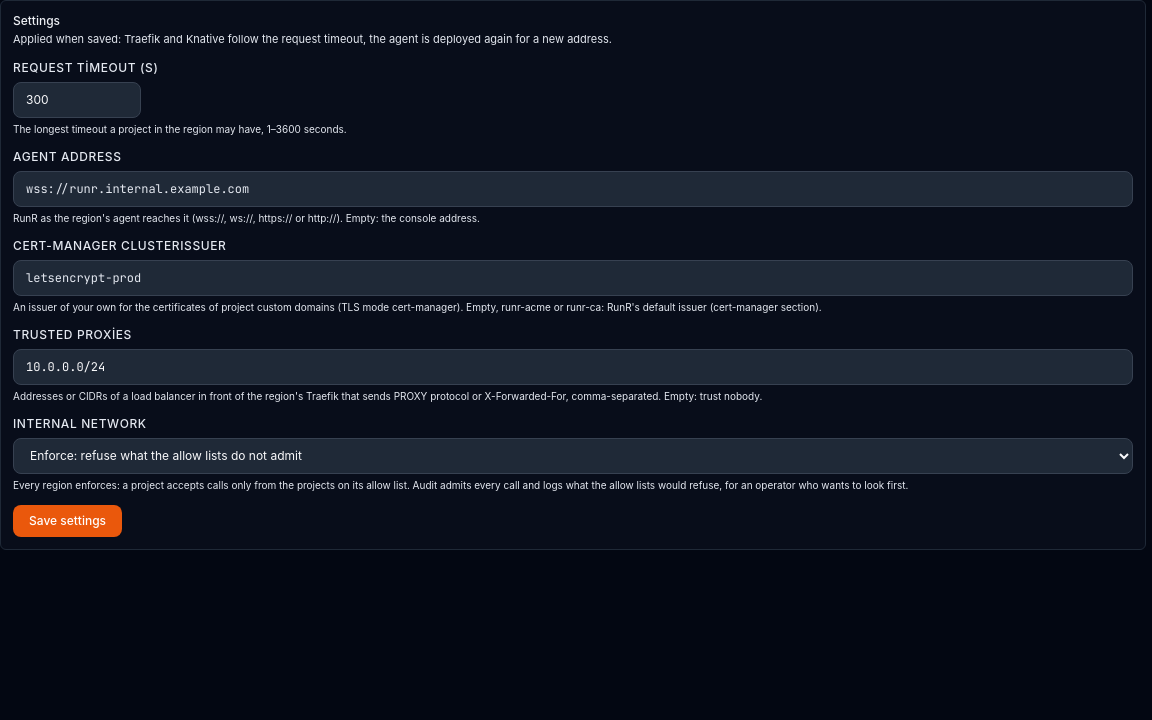
it: Region → General → Settings › saves request_timeout, agent_ws_url, cert_manager_cluster_issuer and ingress_trusted_ips
The width and height of the screenshot is (1152, 720).
expect the field with id "region-trusted-ips" holds "10.0.0.0/24": met, box [13,348,1133,384]
Replace the text in the number field with id "region-request-timeout" with "900" at x=77, y=100, box [13,82,141,118]
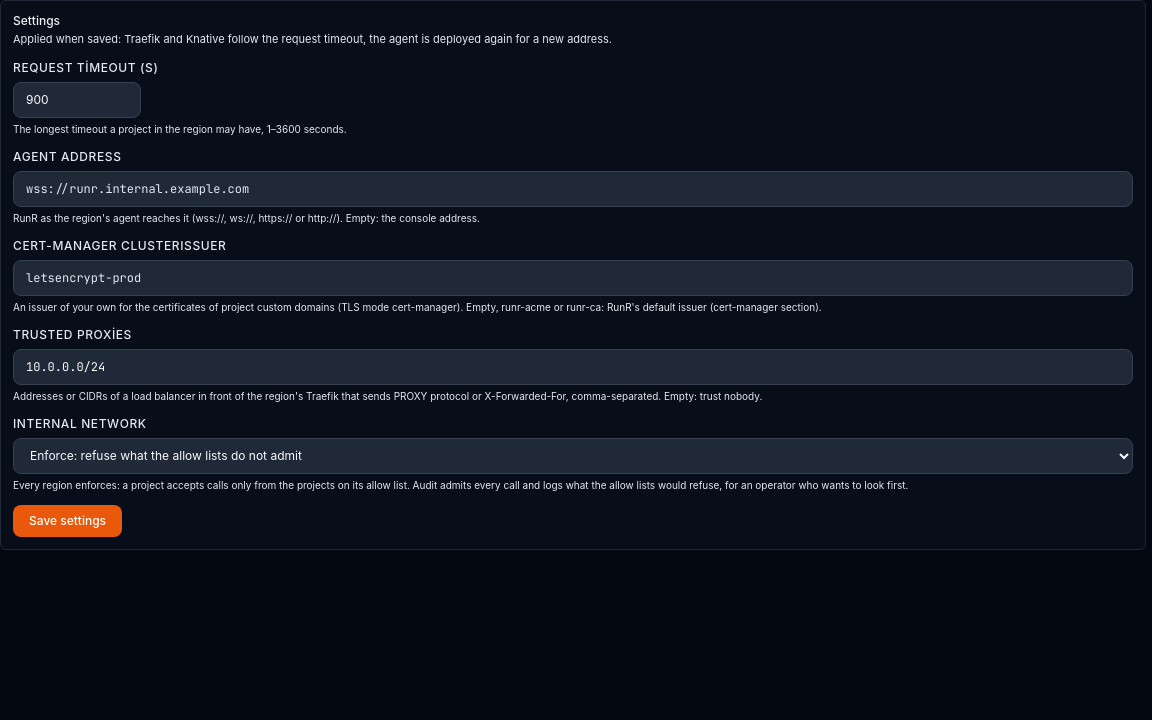
Type "wss://runr.internal.example.test" into the field with id "region-agent-url" at x=573, y=188, box [13,170,1133,206]
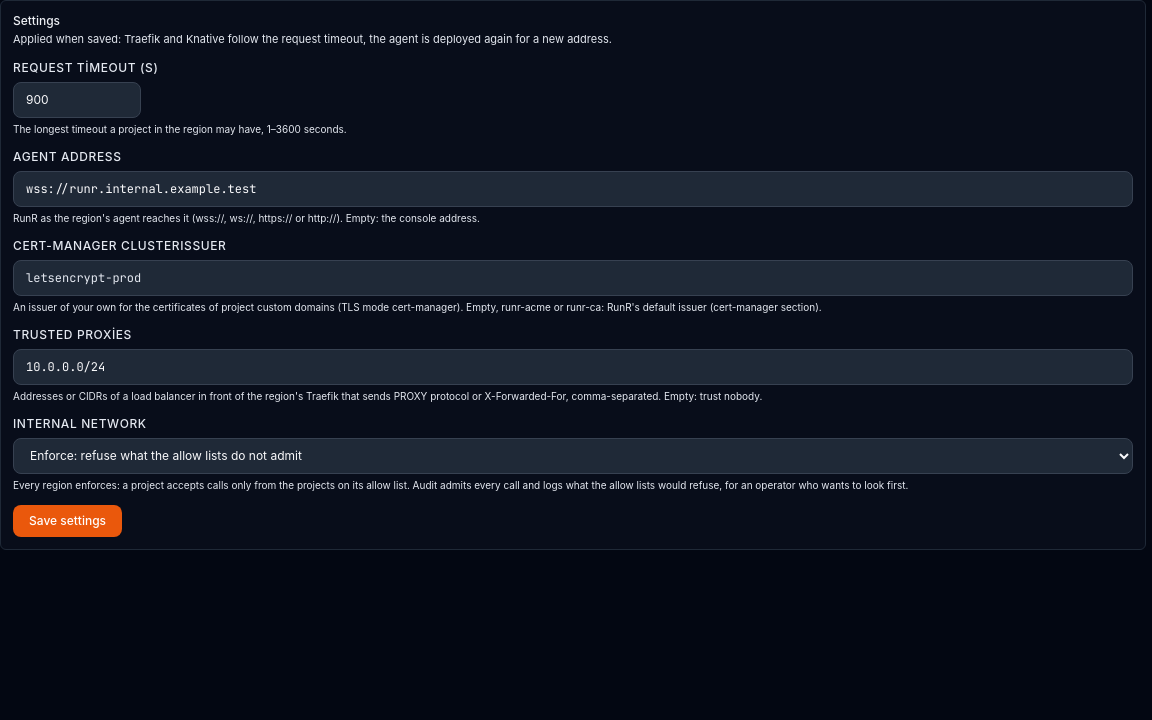
Replace the text in the field with id "region-trusted-ips" with "10.0.0.0/24, 192.0.2.10" at x=573, y=366, box [13,348,1133,384]
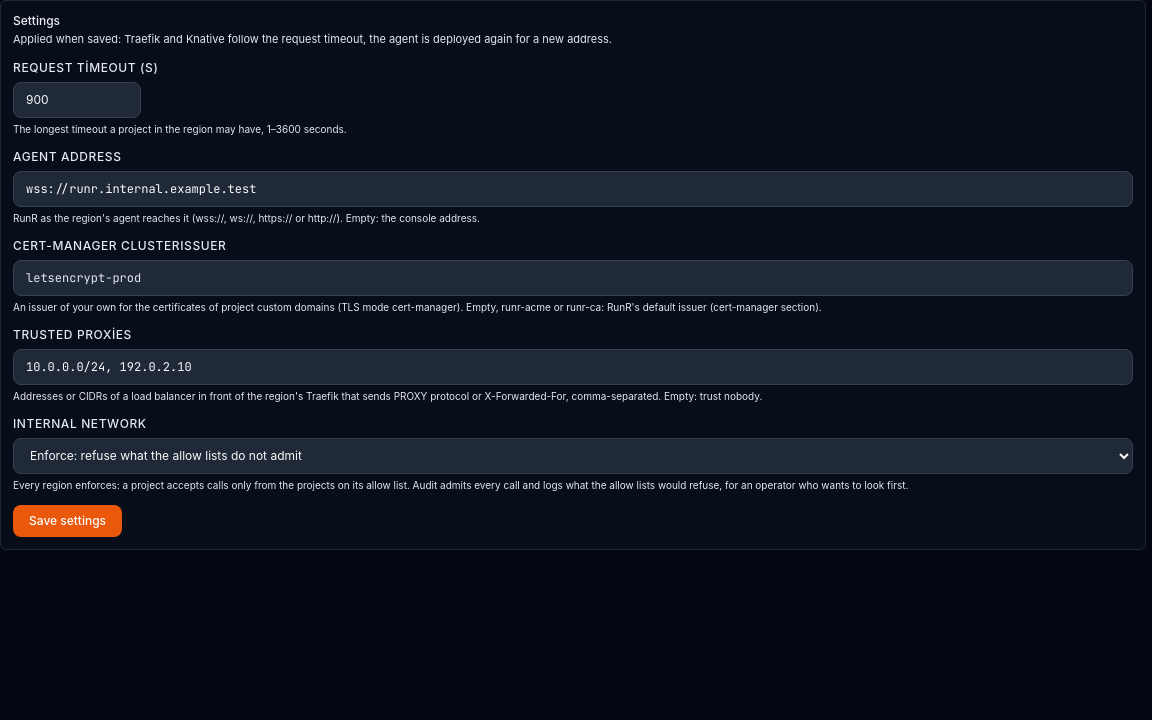
Click the button with test id "save-region-settings" at x=68, y=520, box [13,504,122,536]
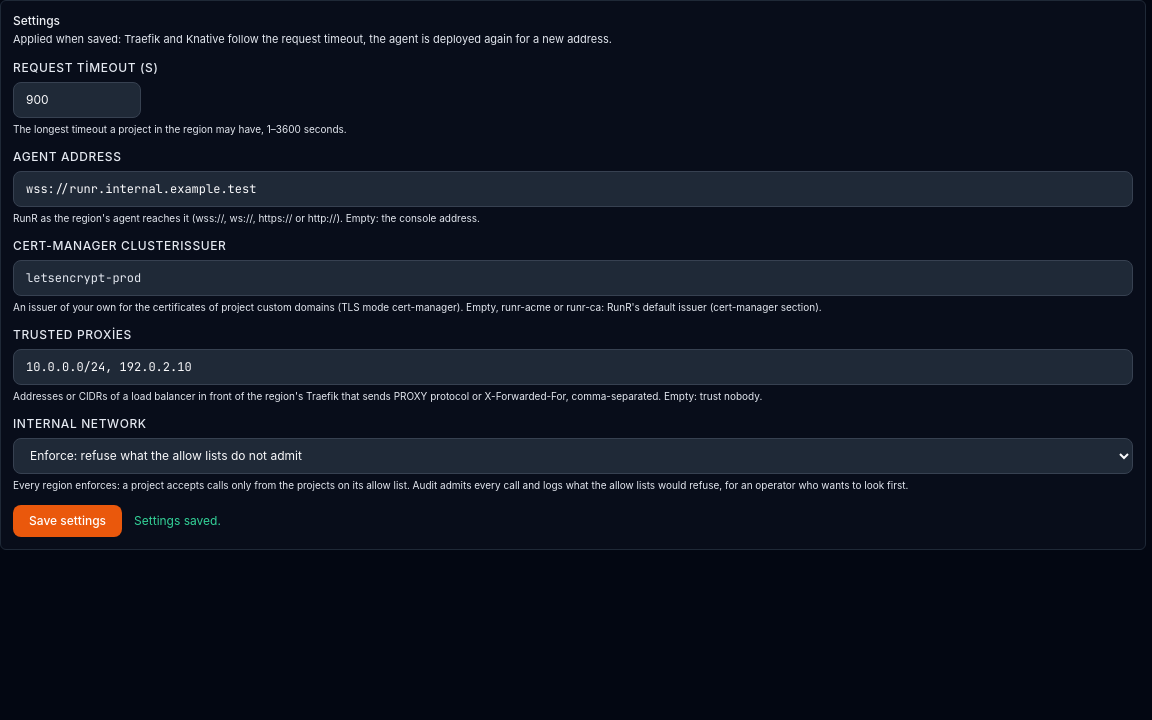
expect the text "Settings saved." is shown: met, box [134,512,221,528]
